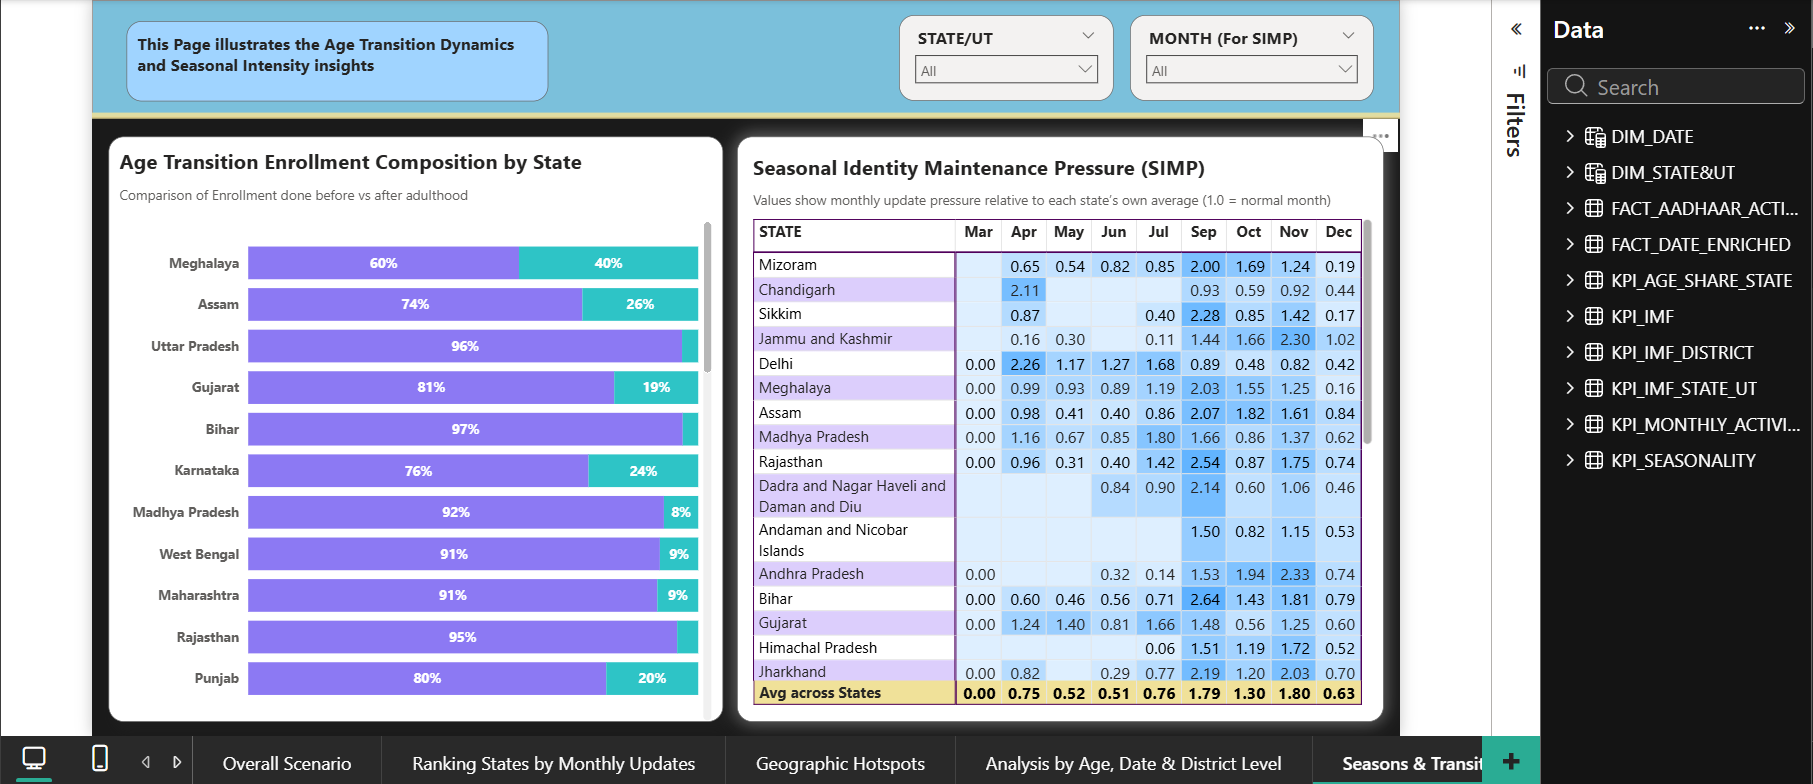

What the dashboard file says about the page in this screenshot:
{"tool":"powerbi","page":{"name":"Seasons & Transitions","canvas":[1280,720],"ordinal":4},"visuals":[{"type":"shape","box":[0,0,1280,114.3],"z":0},{"type":"shape","box":[0,92.9,1280,41.4],"z":1000},{"type":"hundredPercentStackedBarChart","title":"Age Transition Enrollment Composition by State","fields":{"Y":["Sum(KPI_AGE_SHARE_STATE.TOTAL_5_17)","Sum(KPI_AGE_SHARE_STATE.TOTAL_18_GREATER)"],"Category":["KPI_AGE_SHARE_STATE.STATE/UT"]},"box":[16.2,133.8,601.2,572.5],"z":2000},{"type":"slicer","fields":{"Values":["DIM_STATE&UT.STATE/UT"]},"box":[790,14.3,210,84.3],"z":3000},{"type":"slicer","fields":{"Values":["KPI_SEASONALITY.MONTH"]},"box":[1015.7,14.3,238.6,84.3],"z":4000},{"type":"pivotTable","title":"Seasonal Identity Maintenance Pressure (SIMP)","fields":{"Values":["Avg(KPI_SEASONALITY.SEASONALITY_INDEX)"],"Columns":["KPI_SEASONALITY.MONTH"],"Rows":["KPI_SEASONALITY.STATE"]},"box":[631.2,133.8,632.5,572.5],"z":5000},{"type":"textbox","box":[34.3,20,412.9,78.6],"z":6000}]}

Visuals, with their boxes on the page's 1280x720 design canvas (x1, y1, x2, y2). These are canvas units, not pixel positions in the 1813x784 screenshot, which may show the page scaled, cropped or inside an application window:
shape: x1=0, y1=0, x2=1280, y2=114
shape: x1=0, y1=93, x2=1280, y2=134
"Age Transition Enrollment Composition by State" hundredPercentStackedBarChart: x1=16, y1=134, x2=617, y2=706
slicer - DIM_STATE&UT.STATE/UT: x1=790, y1=14, x2=1000, y2=99
slicer - KPI_SEASONALITY.MONTH: x1=1016, y1=14, x2=1254, y2=99
"Seasonal Identity Maintenance Pressure (SIMP)" pivotTable: x1=631, y1=134, x2=1264, y2=706
textbox: x1=34, y1=20, x2=447, y2=99
